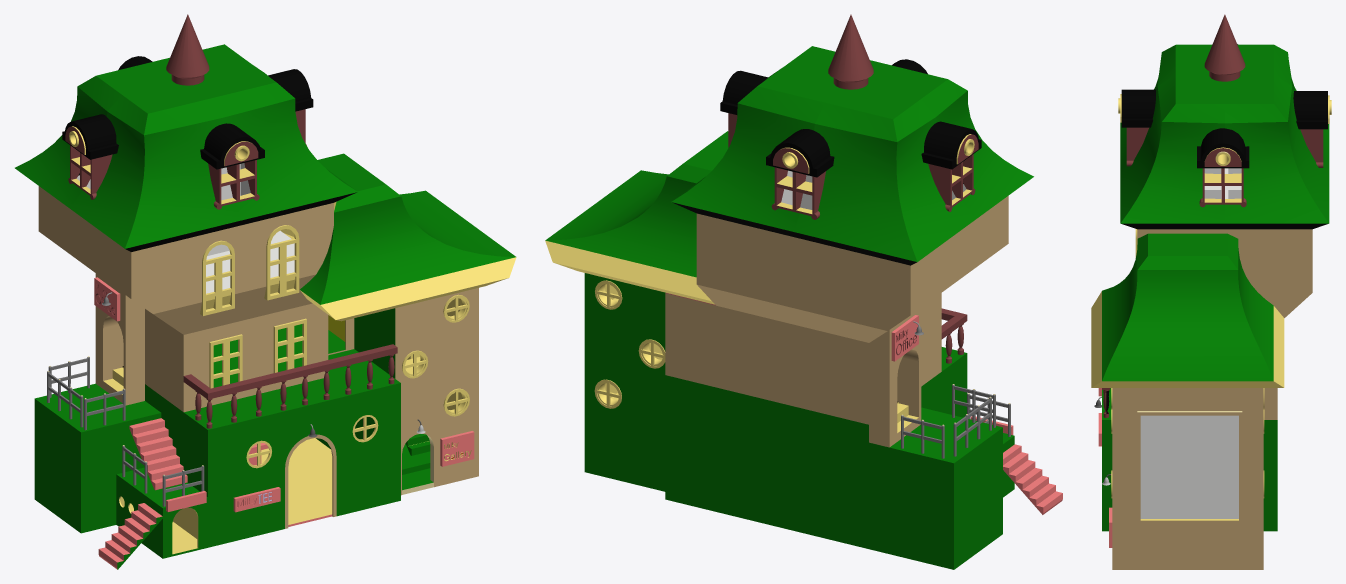
3 renders of one model, left to right at view 1: azimuth 30°, elevation 25°; view 2: azimuth 150°, elevation 25°; view 3: azimuth 270°, elevation 25°, orthographic. The views are drawn at different scales.
Visible parts, largest first — view 1: 1_floor, roof, staircase, 2_floor, 3_floor; view 2: 1_floor, roof, staircase, 2_floor, 3_floor; view 3: staircase, roof, 3_floor, 1_floor, 2_floor.
Part boxes in pixels (<box>): 1_floor: <box>34,349,400,569</box>; roof: <box>15,14,357,251</box>; staircase: <box>280,153,516,495</box>; 2_floor: <box>94,273,397,428</box>; 3_floor: <box>38,163,333,334</box>; 1_floor: <box>665,347,1062,569</box>; roof: <box>671,14,1033,265</box>; staircase: <box>545,131,728,491</box>; 2_floor: <box>665,293,967,447</box>; 3_floor: <box>696,170,1008,342</box>; staircase: <box>1091,233,1284,569</box>; roof: <box>1118,14,1331,229</box>; 3_floor: <box>1135,168,1312,317</box>; 1_floor: <box>1094,388,1277,531</box>; 2_floor: <box>1102,388,1277,419</box>.
Size of the model in its own units: 24.44 by 27.81 by 13.47.
